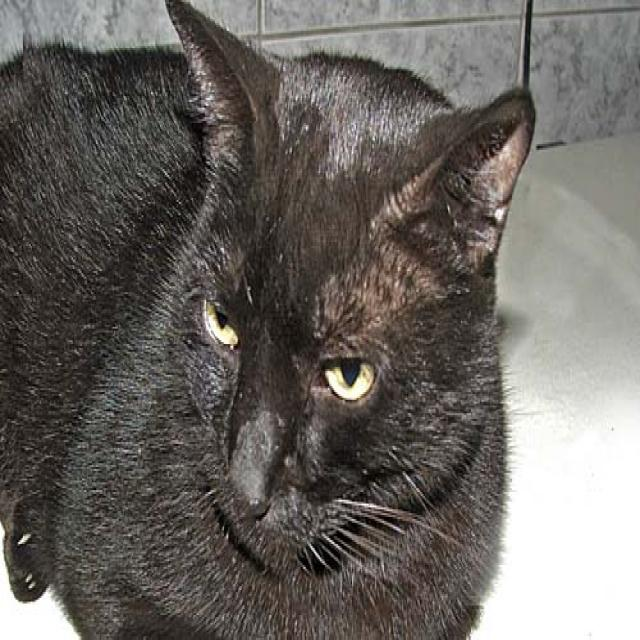left eye: (318, 349, 378, 404)
